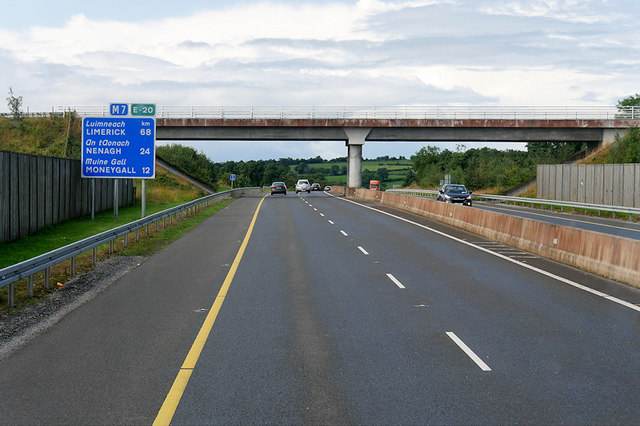bridge: (156, 103, 640, 142)
